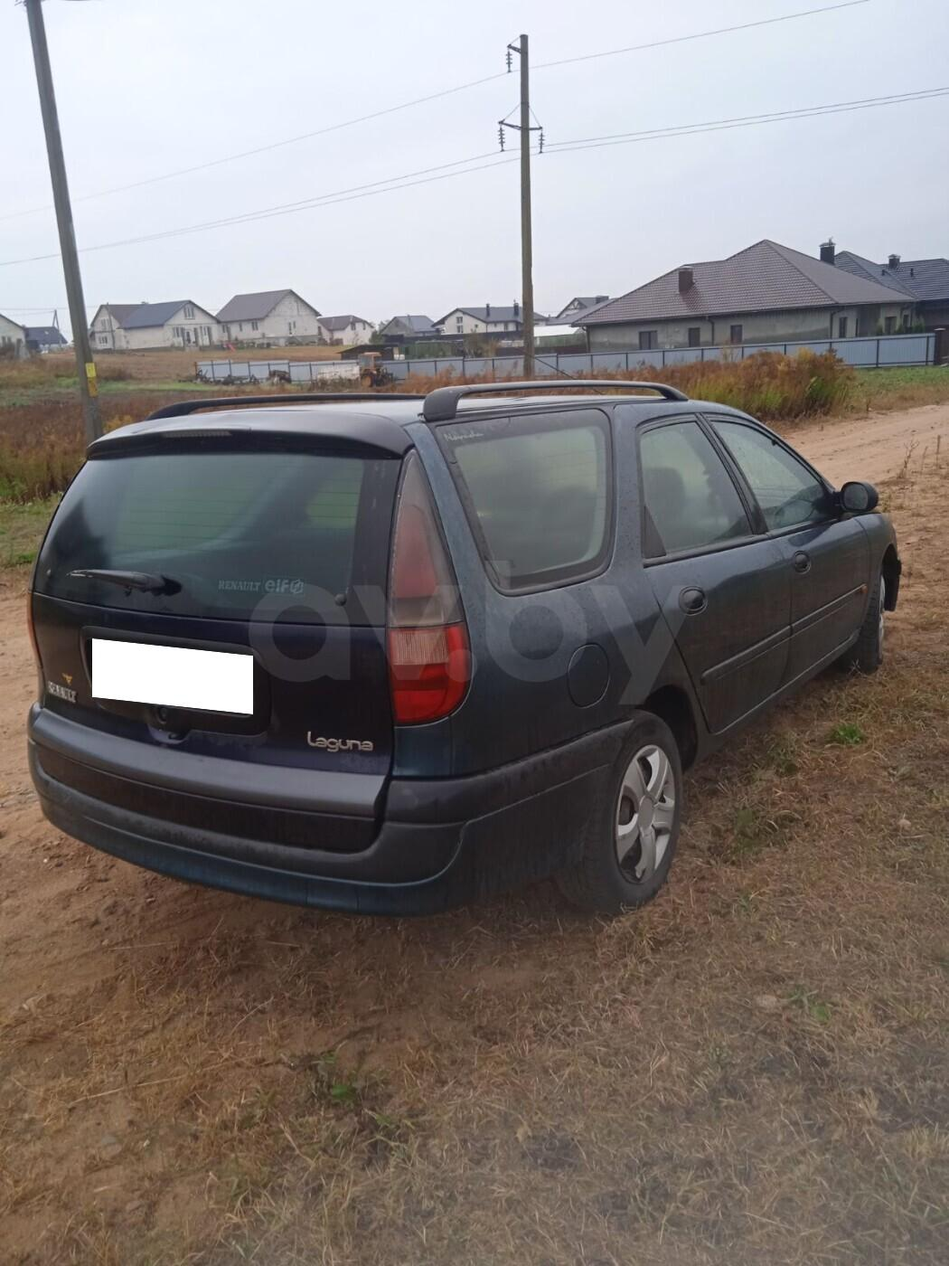Lahuna_1993-1999: (31, 387, 909, 930)
